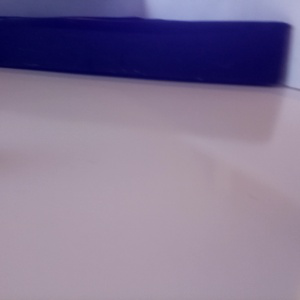zone: (1, 15, 290, 86)
